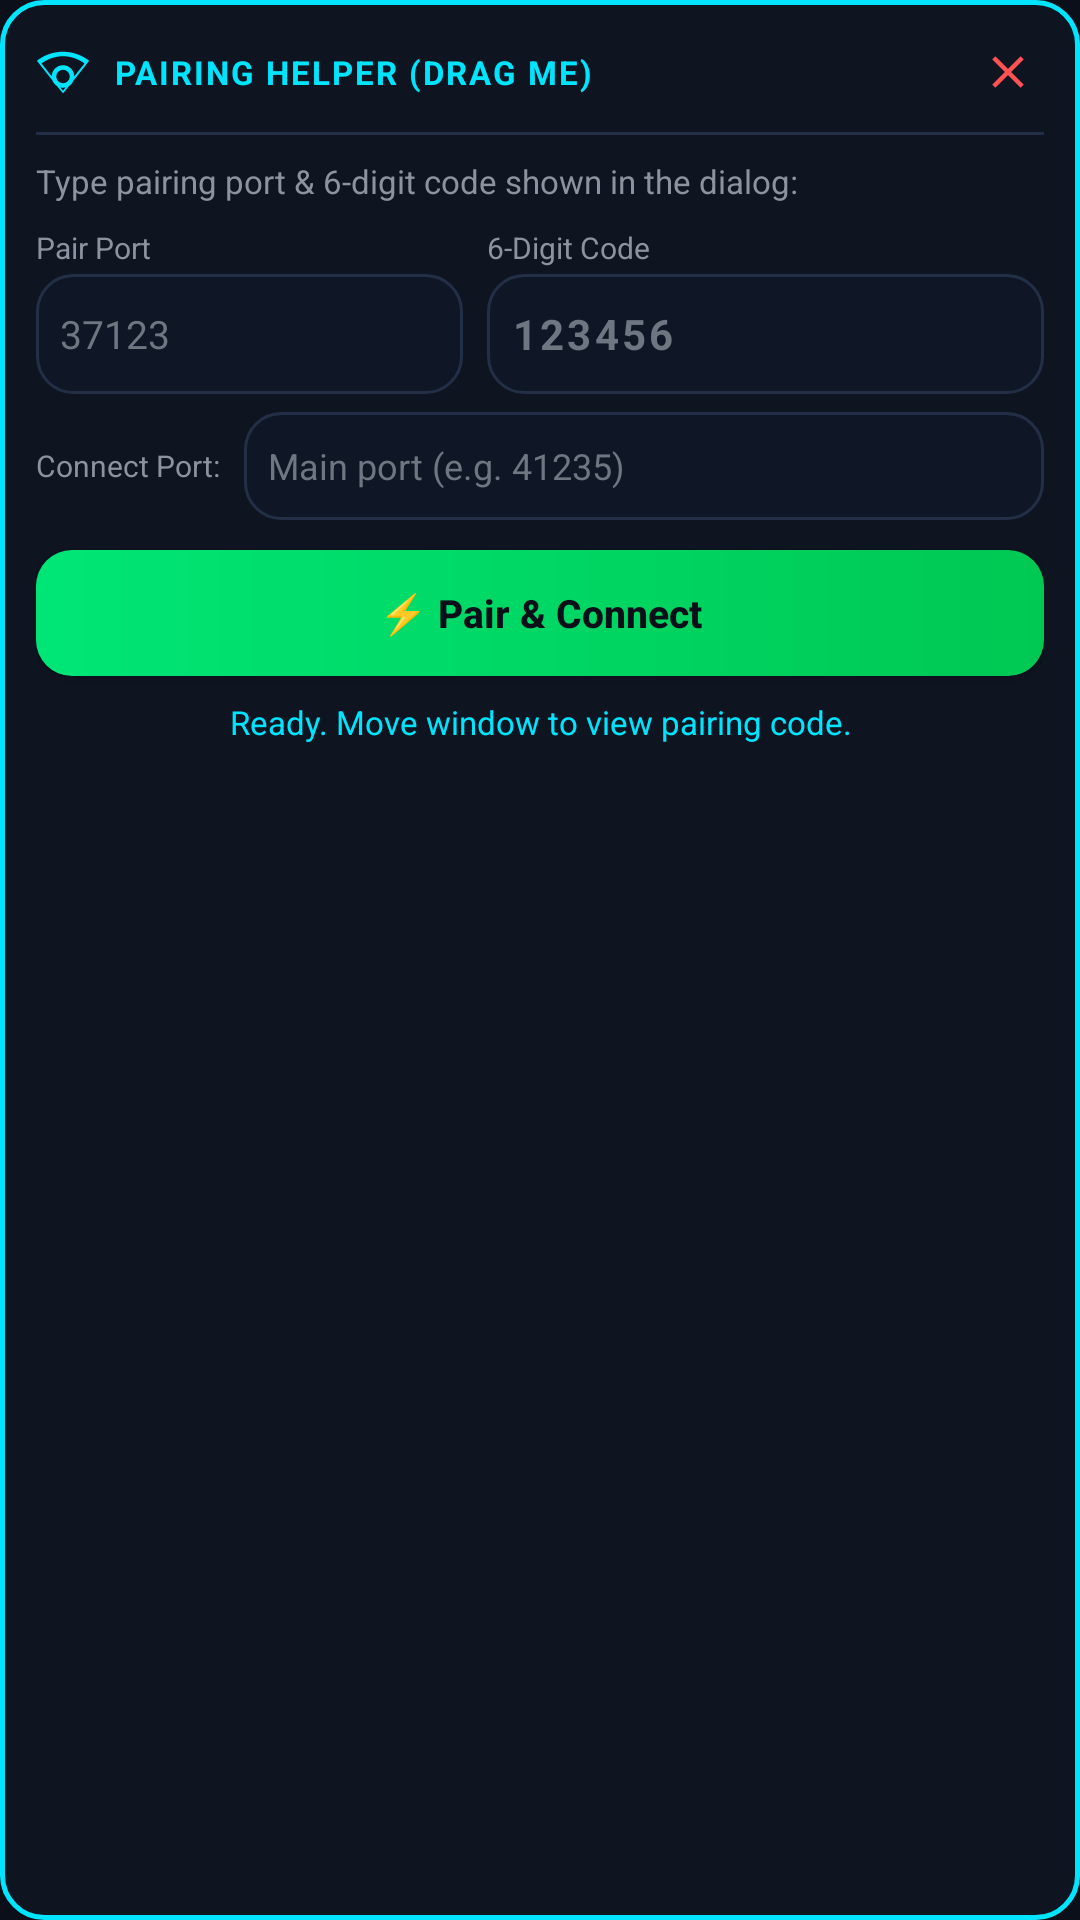

Icon bounding boxes for this 1080x1920 phone screenshot, format (x1, y1, x2, y2):
close: (992, 56, 1024, 88)
wifi adb: (37, 51, 89, 93)
